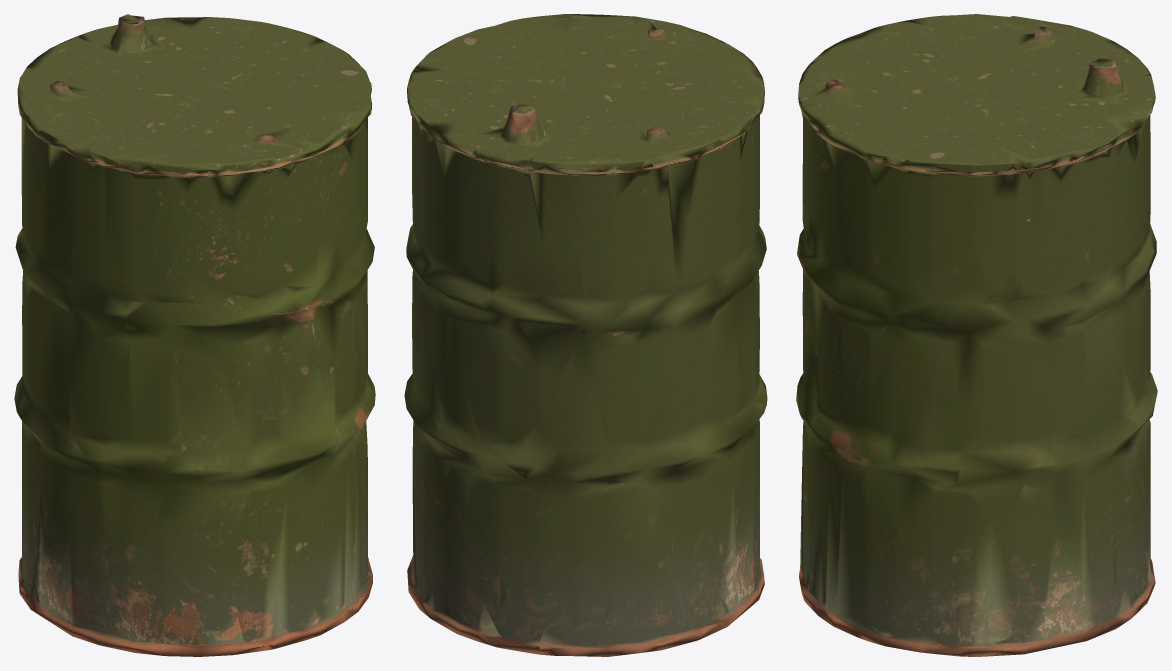
The model's file is yakit_varili.glb.
The picture shows the model from 3 angles, left to right: view 1: azimuth 30°, elevation 25°; view 2: azimuth 150°, elevation 25°; view 3: azimuth 270°, elevation 25°; orthographic projection.
Visible parts, largest first — view 1: kok; view 2: kok; view 3: kok.
Boxes of the visible parts, bbox=[...] form: kok: bbox=[14, 14, 375, 656]; kok: bbox=[404, 14, 767, 656]; kok: bbox=[796, 14, 1157, 656].
Bounding box in the file's own units: 0.5682 × 0.9 × 0.5685.
1 material, 1 textured.
